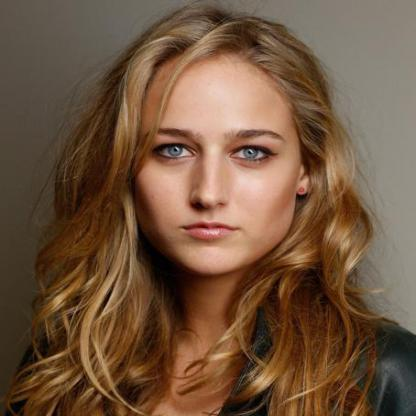long-hair: (33, 275, 380, 351)
